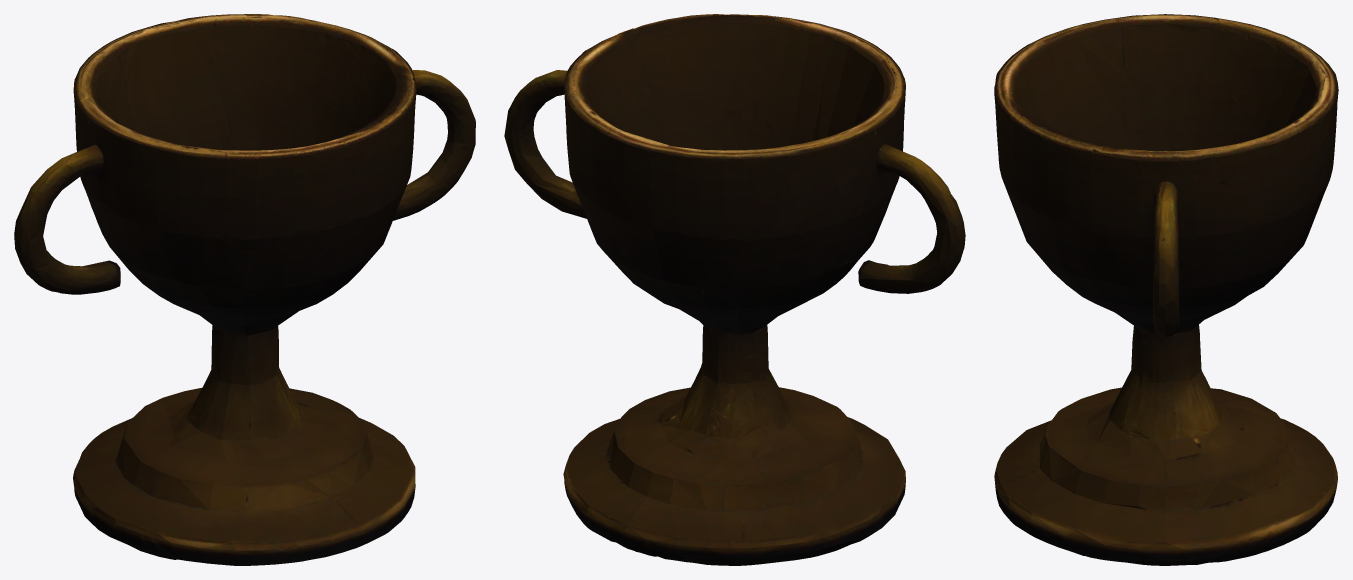
File: trophy.glb
3 renders of one model, left to right at view 1: azimuth 30°, elevation 25°; view 2: azimuth 150°, elevation 25°; view 3: azimuth 270°, elevation 25°, orthographic.
Parts seen in each view (by area): view 1: world; view 2: world; view 3: world.
Boxes of the visible parts, left/top/right/bottom form: world: left=14, top=14, right=475, bottom=565; world: left=504, top=14, right=965, bottom=565; world: left=994, top=14, right=1338, bottom=565.
Bounding box in the file's own units: 0.9875 × 0.8549 × 0.6453.
Materials: 1 (1 with a texture image).
